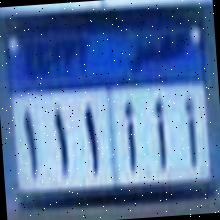1: (50, 100, 72, 180), (21, 107, 42, 187), (82, 104, 104, 180)
alif: (178, 92, 206, 170), (150, 94, 172, 174), (122, 98, 142, 176)
